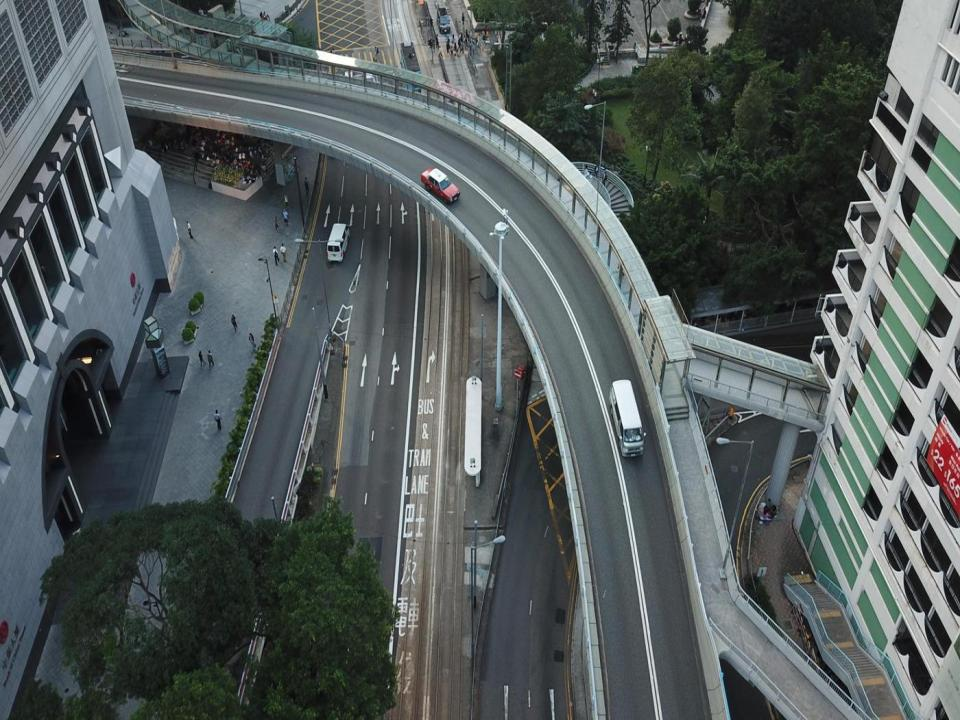bus: (400, 41, 422, 102)
car: (422, 166, 460, 204)
van: (609, 379, 646, 457), (326, 223, 350, 261), (437, 6, 450, 36)
